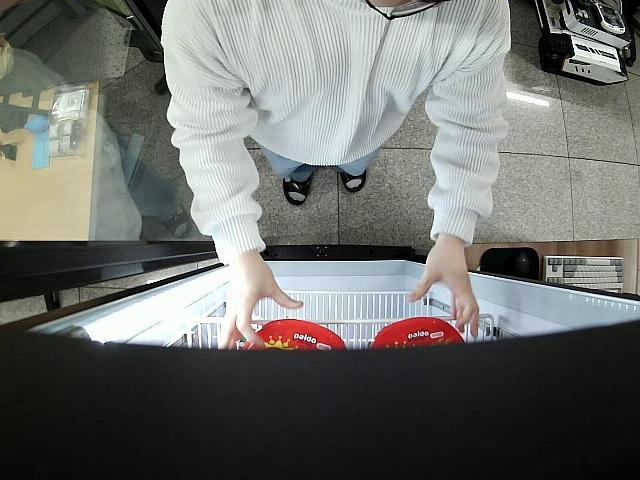00_hand: (219, 260, 305, 351), (407, 247, 483, 341)
10_wangTtukkeong: (239, 317, 347, 355), (373, 316, 466, 350)
